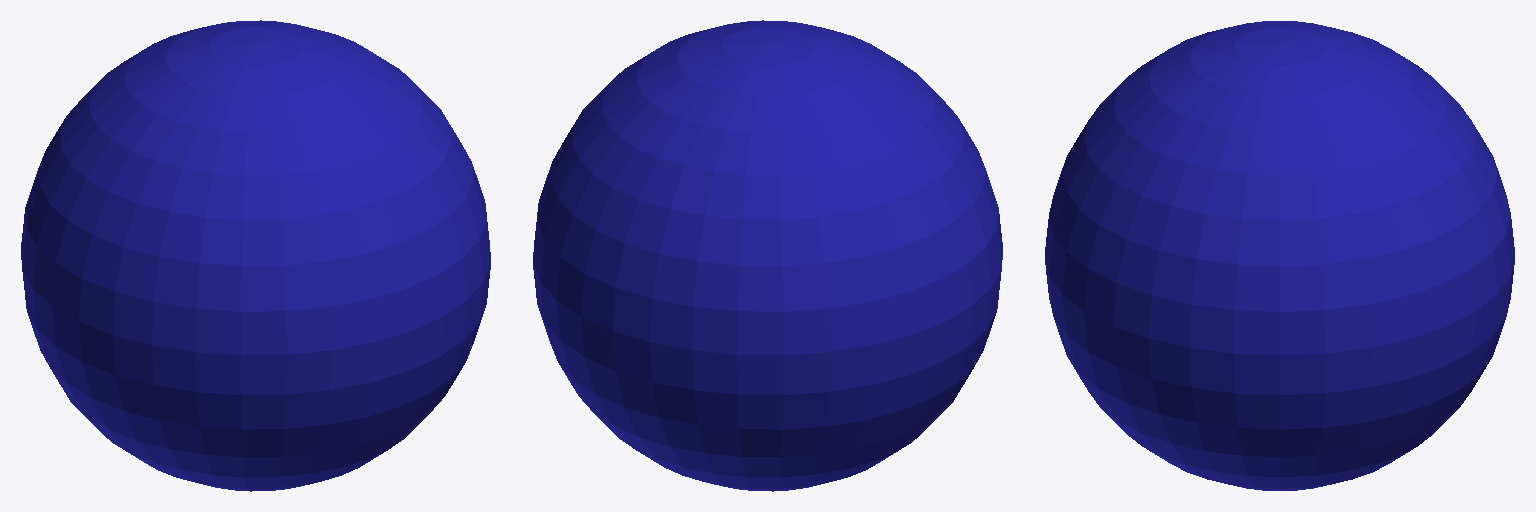
robot.urdf — sphere:
<robot name="sphere">
  <!-- Sphere Link -->
  <link name="link">
    <!-- Inertial properties -->
    <inertial>
      <origin xyz="0 0 0" rpy="0 0 0" />
      <mass value="1.0" />
      <inertia ixx="0.02" iyy="0.02" izz="0.02" ixy="0.0" ixz="0.0" iyz="0.0" />
    </inertial>
    
    <!-- Visual representation -->
    <visual>
      <origin xyz="0 0 0" rpy="0 0 0" />
      <geometry>
        <sphere radius="0.05" />
      </geometry>
      <material name="blue">
        <color rgba="0.2 0.2 0.7 1" />
      </material>
    </visual>

    <!-- Collision geometry -->
    <collision>
      <origin xyz="0 0 0" rpy="0 0 0" />
      <geometry>
        <sphere radius="0.05" />
      </geometry>
    </collision>
  </link>
  <gazebo>
    <plugin name="gazebo_ros_state" filename="libgazebo_ros_state.so">
      <ros>
        <namespace>/gazebo</namespace>
      </ros>
    </plugin>
  </gazebo>
</robot>

--- Render facts (derived) ---
3 views of the same robot in one strip: view 1: azimuth 30°, elevation 25°; view 2: azimuth 150°, elevation 25°; view 3: azimuth 270°, elevation 25° (orthographic).
Robot: sphere — 1 links, 0 joints (none); root link link; default pose: every joint at zero.
Links seen in each view (by area): view 1: link; view 2: link; view 3: link.
Boxes of the visible links, <box> form: link: <box>21,20,490,491</box>; link: <box>533,20,1002,491</box>; link: <box>1045,21,1514,490</box>.
Size in the robot's own frame: 0.1 by 0.1 by 0.1 metres.
Geometry: primitives only (box / cylinder / sphere), no mesh files.